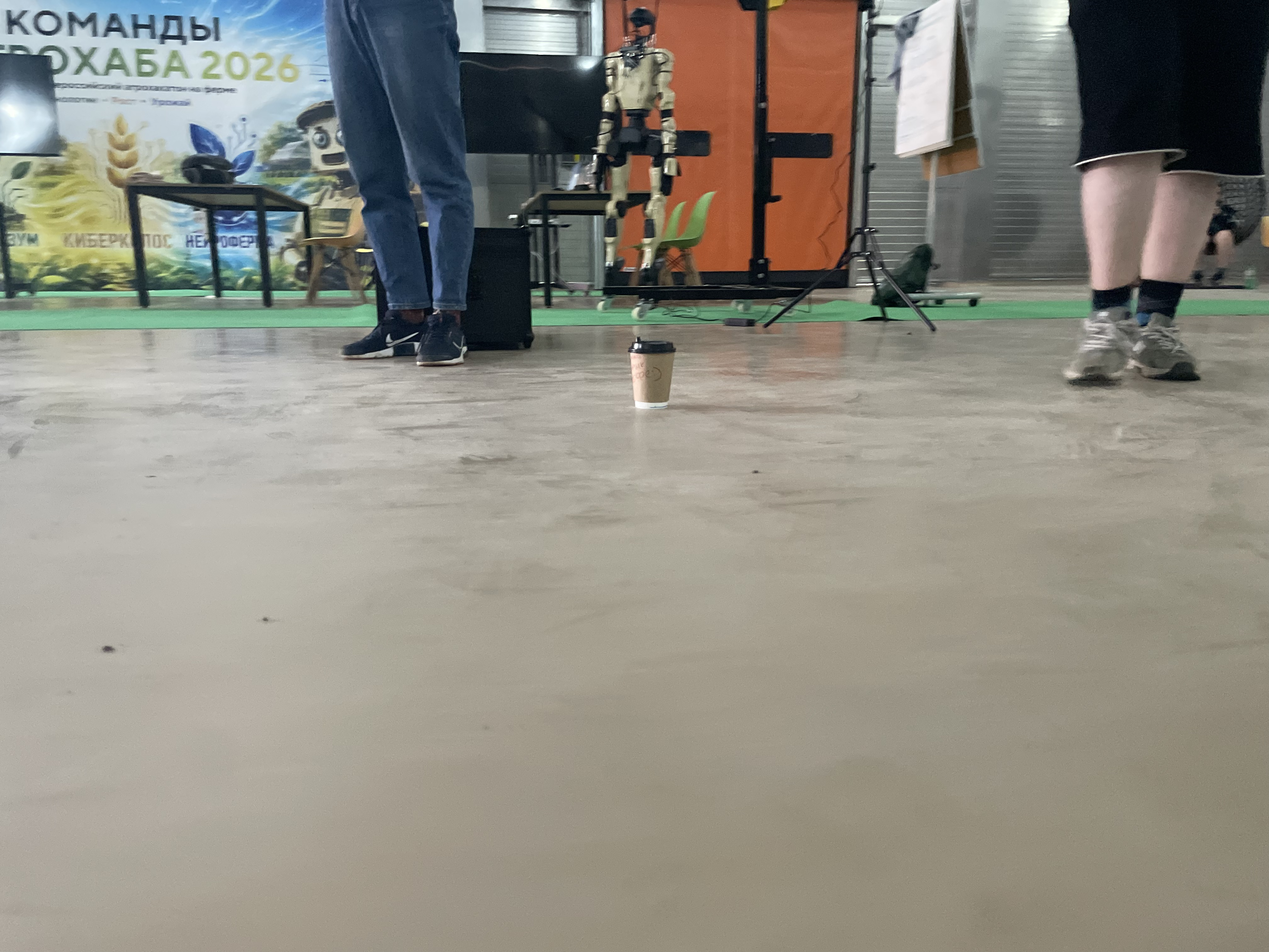cup: (628, 337, 677, 409)
